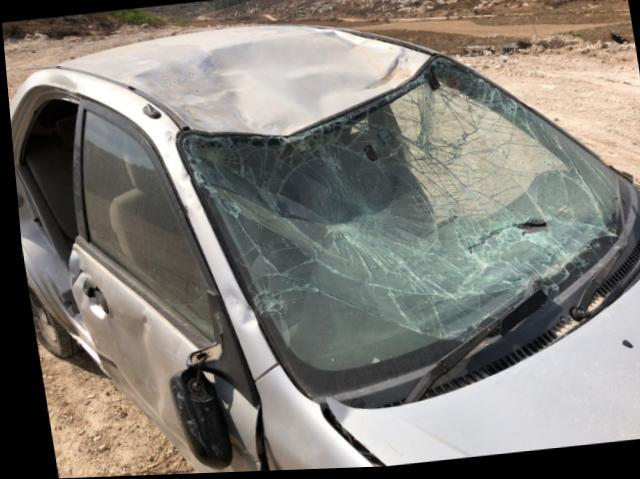dent: (129, 31, 428, 136), (117, 318, 157, 416), (215, 286, 248, 328)
glass shatter: (178, 59, 628, 406)
no part: (8, 82, 92, 372)
